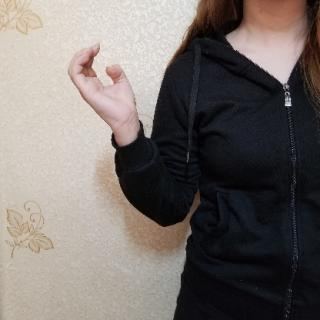JEEM: (64, 40, 144, 136)
